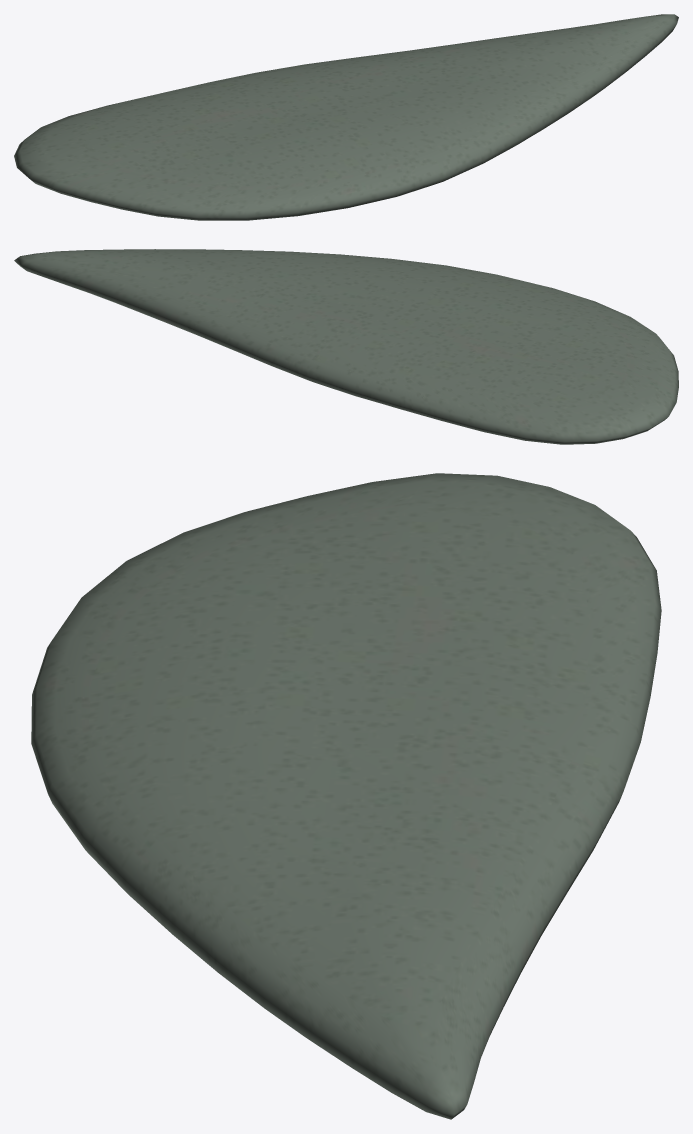
Rendered from willow_leaf_07.glb.
3 renders of one model, top to bottom at view 1: azimuth 30°, elevation 25°; view 2: azimuth 150°, elevation 25°; view 3: azimuth 270°, elevation 25°, orthographic. The views are drawn at different scales.
Visible parts, largest first — view 1: willow_leaf_07; view 2: willow_leaf_07; view 3: willow_leaf_07.
Boxes of the visible parts, x1,y1,x2,y2 form: willow_leaf_07: [14, 14, 678, 220]; willow_leaf_07: [14, 249, 678, 444]; willow_leaf_07: [31, 473, 661, 1119].
Size of the model in its own units: 0.1102 by 0.00747 by 0.0462.
Materials: 1 (1 with a texture image).
